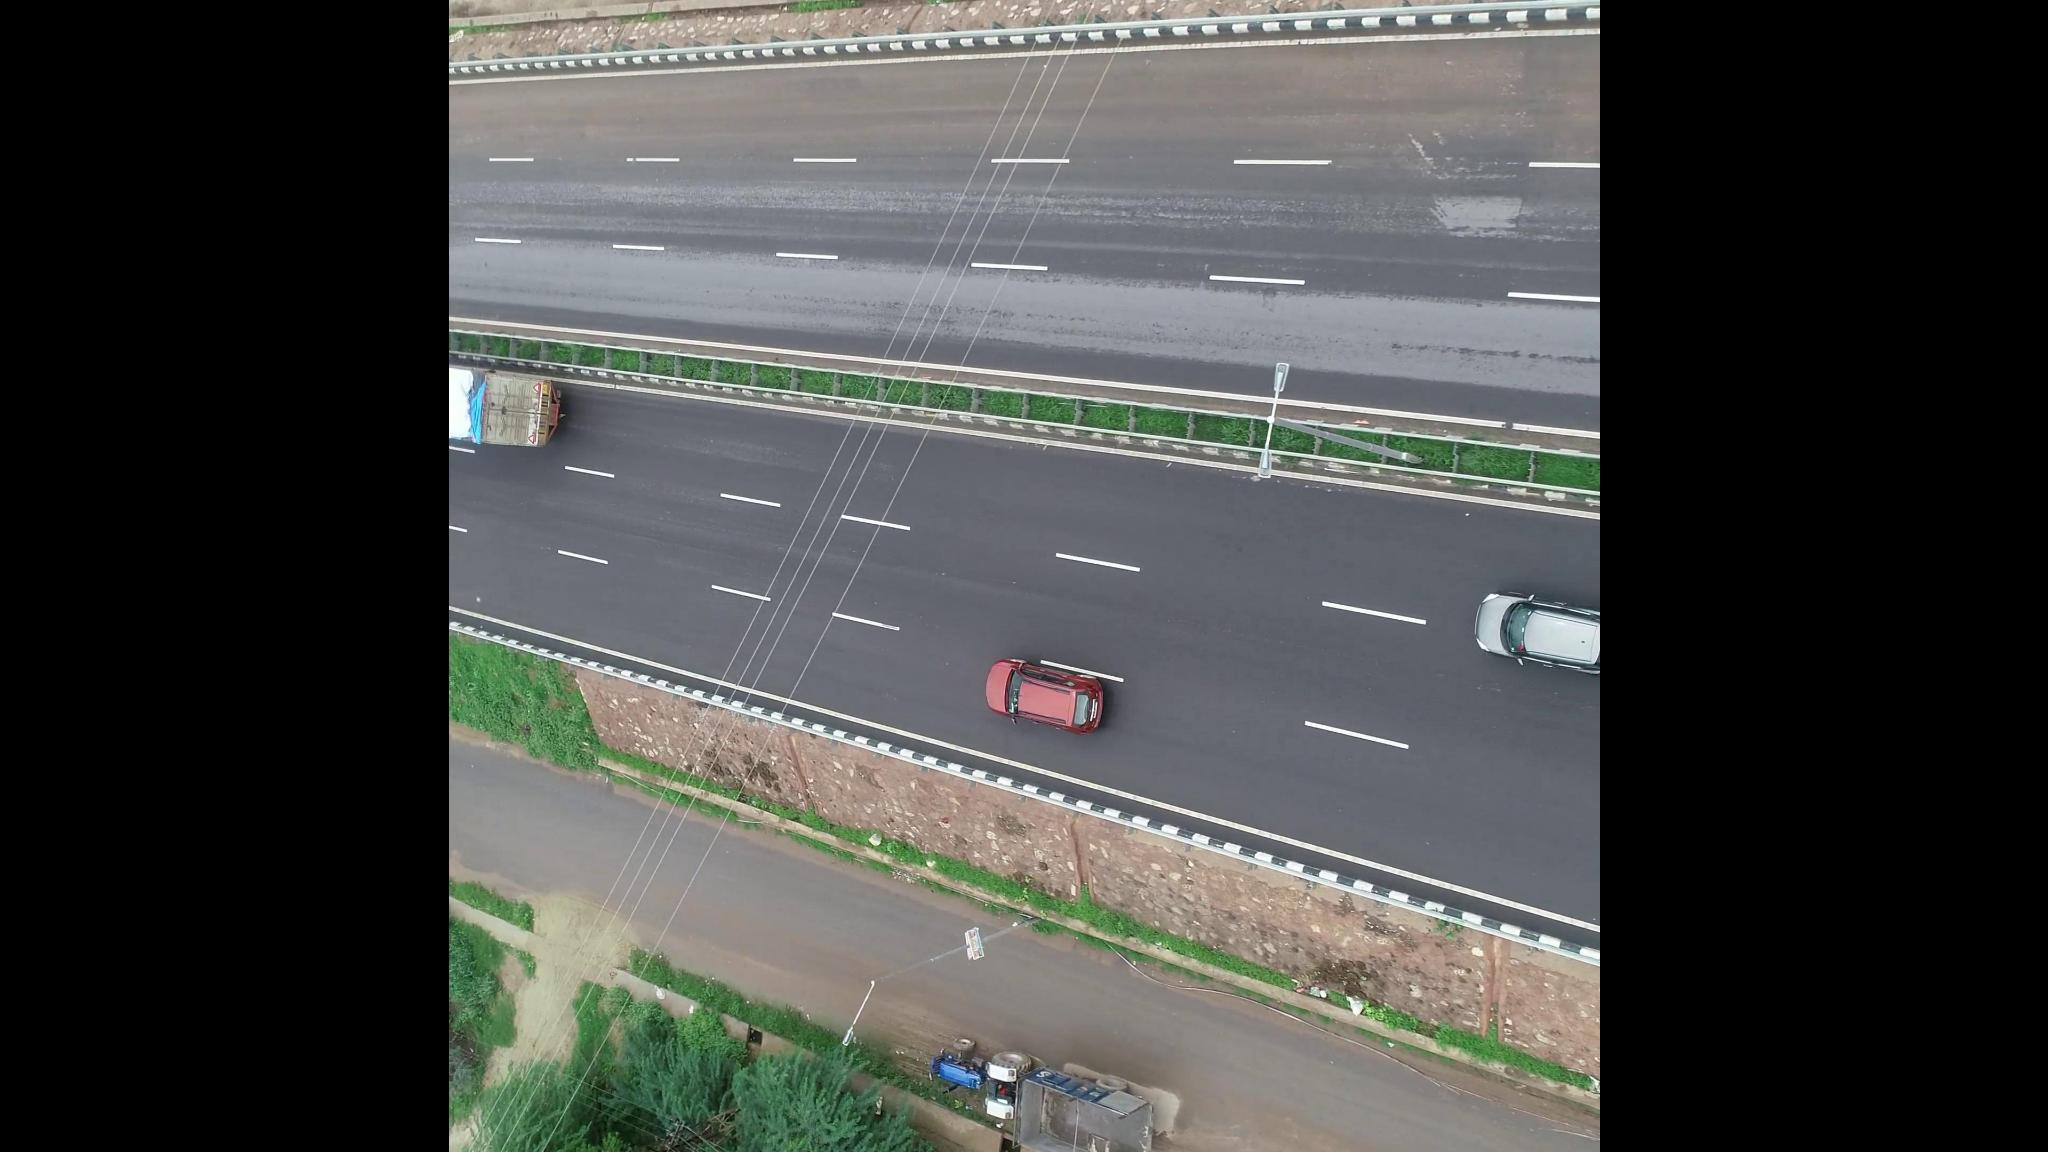Muddy_road: (1129, 53, 1497, 159), (601, 63, 1016, 148)
